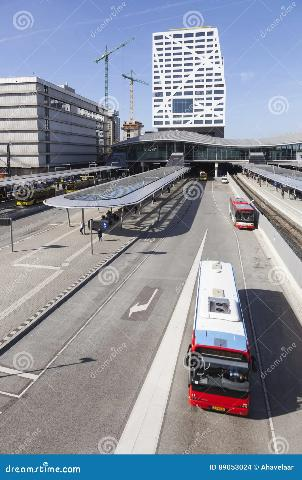bus: (186, 257, 256, 422), (229, 197, 255, 230), (199, 171, 208, 181)
car: (222, 176, 229, 183)
